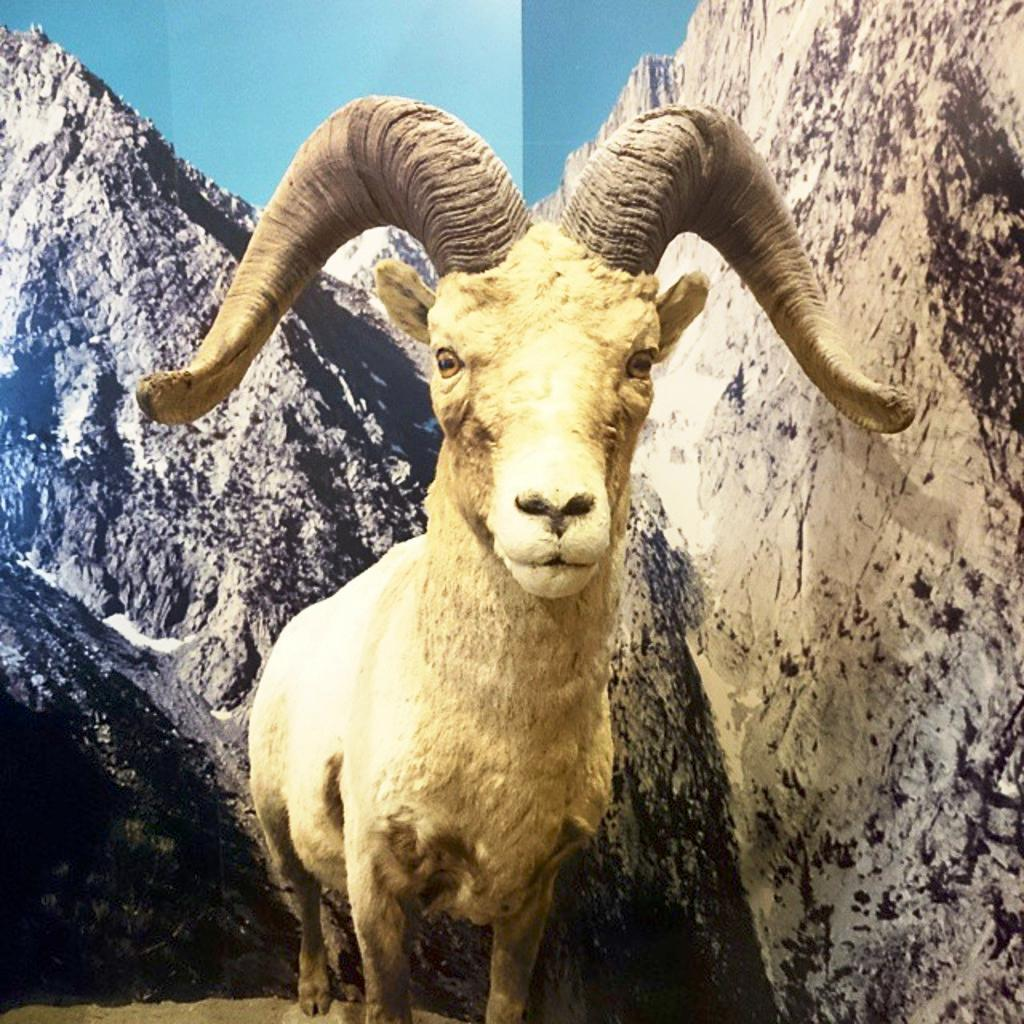Sheep: (131, 90, 917, 1022)
